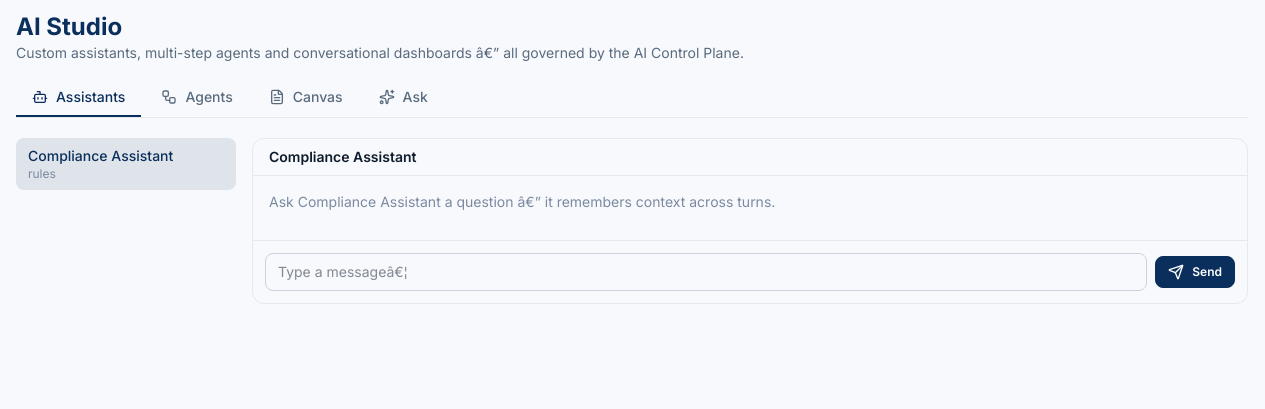
Test: AiStudioView › lists assistants and sends a chat message through the client
The image size is (1265, 409).
Expected: the 1st text "Compliance Assistant" is shown, [28,147,173,164]
Type "What is our CEA status?" into the field named "Message the assistant".
click(706, 272); type("What is our CEA status?")  # box [265,253,1147,291]
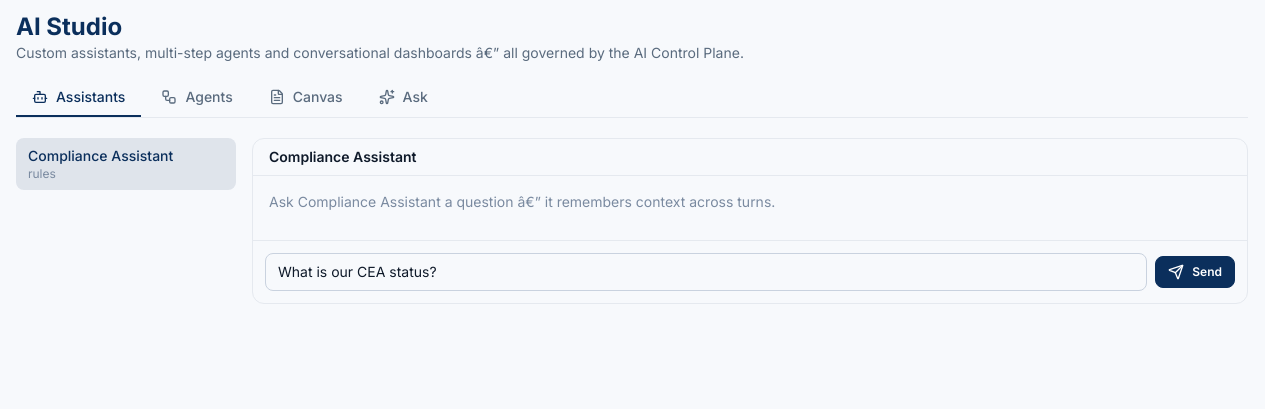
Press Enter in the field named "Message the assistant", box [265,253,1147,291]
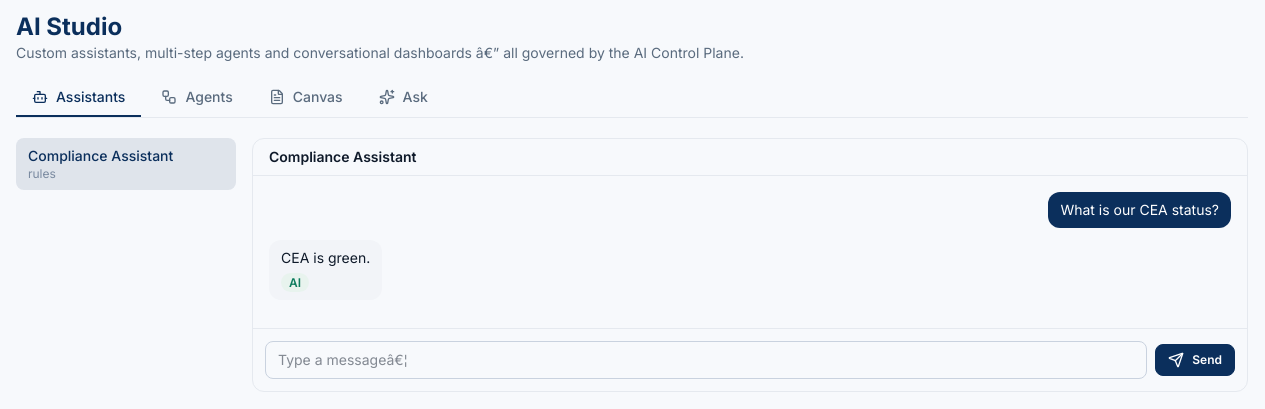
Result: the text "CEA is green." is shown at [281,249,370,266]
